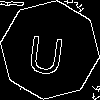U: (25, 25, 68, 76)
